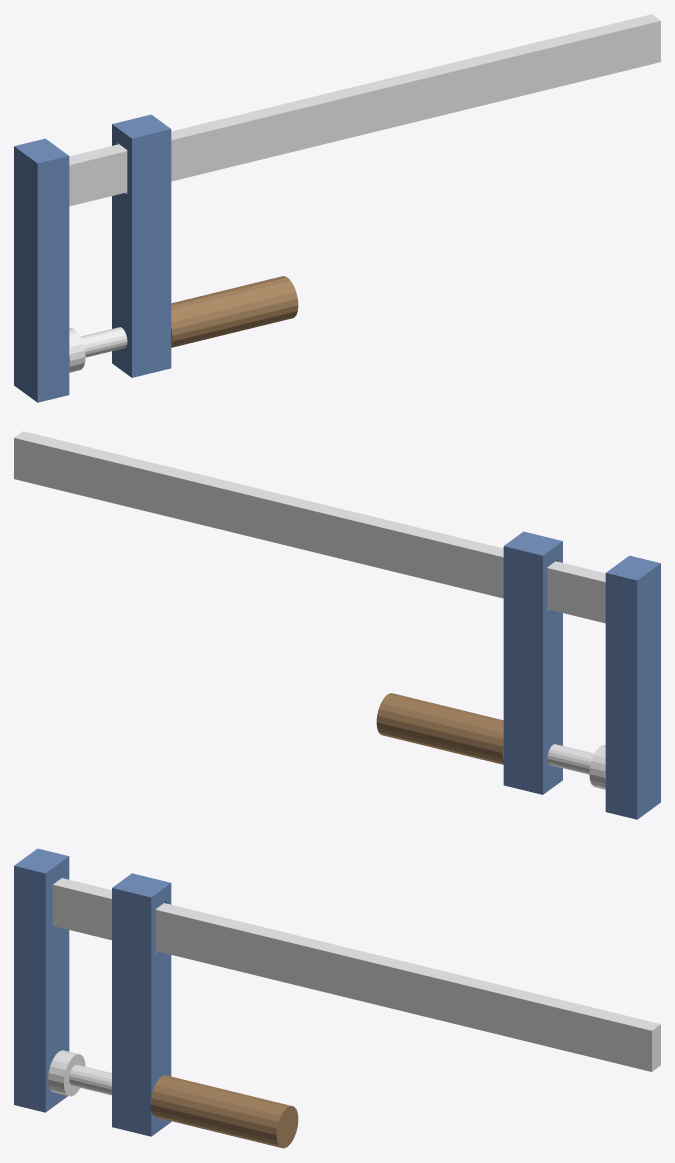
The model's file is clamp-bar-300.glb.
The picture shows the model from 3 angles, top to bottom: view 1: azimuth 30°, elevation 25°; view 2: azimuth 150°, elevation 25°; view 3: azimuth 330°, elevation 25°; orthographic projection.
Visible parts, largest first — view 1: body, jaw; view 2: body, jaw; view 3: body, jaw.
Boxes of the visible parts, x1,y1,x2,y2 form: body: (14, 14, 660, 402); jaw: (69, 114, 298, 377); body: (14, 431, 660, 819); jaw: (376, 531, 605, 794); body: (14, 848, 660, 1112); jaw: (48, 873, 298, 1148).
Size of what is drawn, in the model's own units: 0.4 by 0.145 by 0.026.
